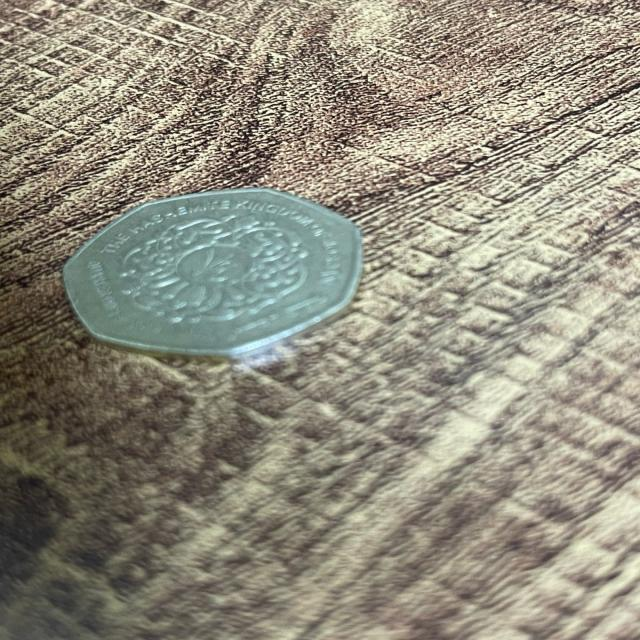25-coins: (62, 187, 360, 354)
